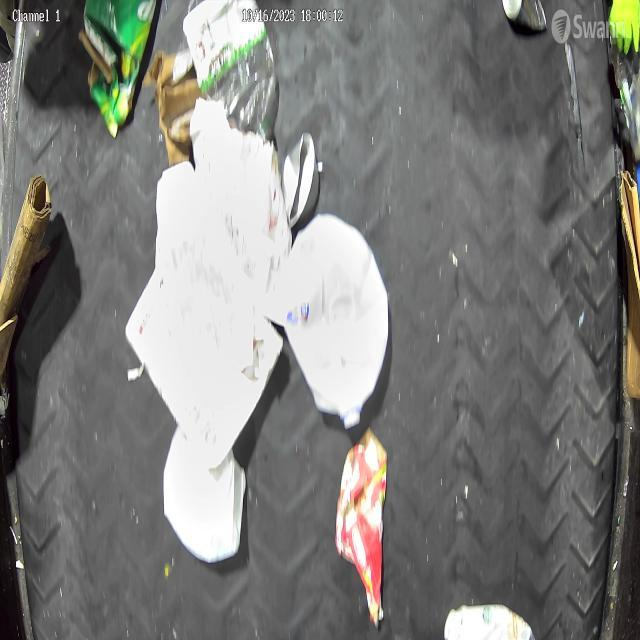can: (280, 132, 320, 230), (502, 0, 546, 33)
milk_jug: (263, 216, 389, 431), (164, 424, 248, 564)
